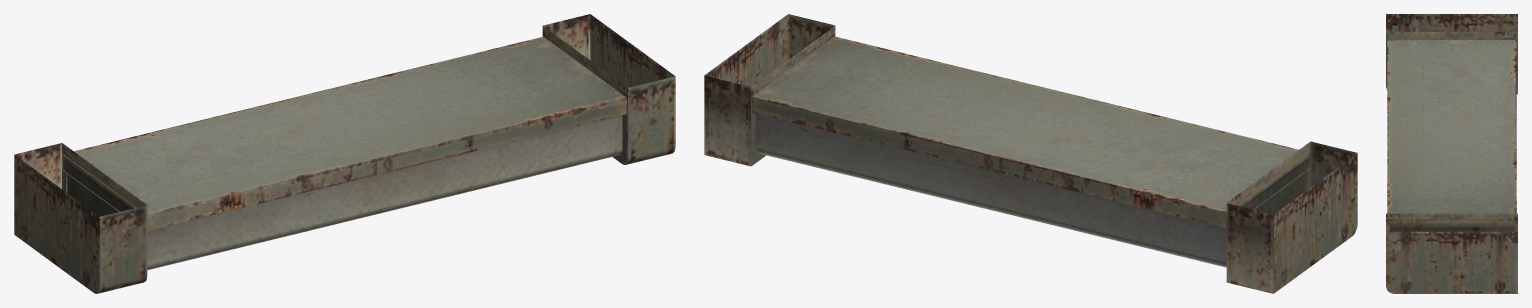
File: sm35_074_fluorescentlight01b.fbx
3 renders of one model, left to right at view 1: azimuth 30°, elevation 25°; view 2: azimuth 150°, elevation 25°; view 3: azimuth 270°, elevation 25°, orthographic. The views are drawn at different scales.
Visible parts, largest first — view 1: LOD_1_Group_1_Sub_1__sm35_074_FluorescentLight01B_B_Mat, LOD_1_Group_1_Sub_2__sm35_074_FluorescentLight01B_A_Mat__Env; view 2: LOD_1_Group_1_Sub_1__sm35_074_FluorescentLight01B_B_Mat, LOD_1_Group_1_Sub_2__sm35_074_FluorescentLight01B_A_Mat__Env; view 3: LOD_1_Group_1_Sub_1__sm35_074_FluorescentLight01B_B_Mat.
Part boxes in pixels (x1,y1,x2,y2): LOD_1_Group_1_Sub_1__sm35_074_FluorescentLight01B_B_Mat: [14, 14, 675, 293]; LOD_1_Group_1_Sub_2__sm35_074_FluorescentLight01B_A_Mat__Env: [66, 115, 622, 270]; LOD_1_Group_1_Sub_1__sm35_074_FluorescentLight01B_B_Mat: [704, 14, 1357, 293]; LOD_1_Group_1_Sub_2__sm35_074_FluorescentLight01B_A_Mat__Env: [756, 114, 1306, 267]; LOD_1_Group_1_Sub_1__sm35_074_FluorescentLight01B_B_Mat: [1386, 14, 1517, 293].
Size of the model in its own units: 0.6796 by 0.0906 by 0.174.
